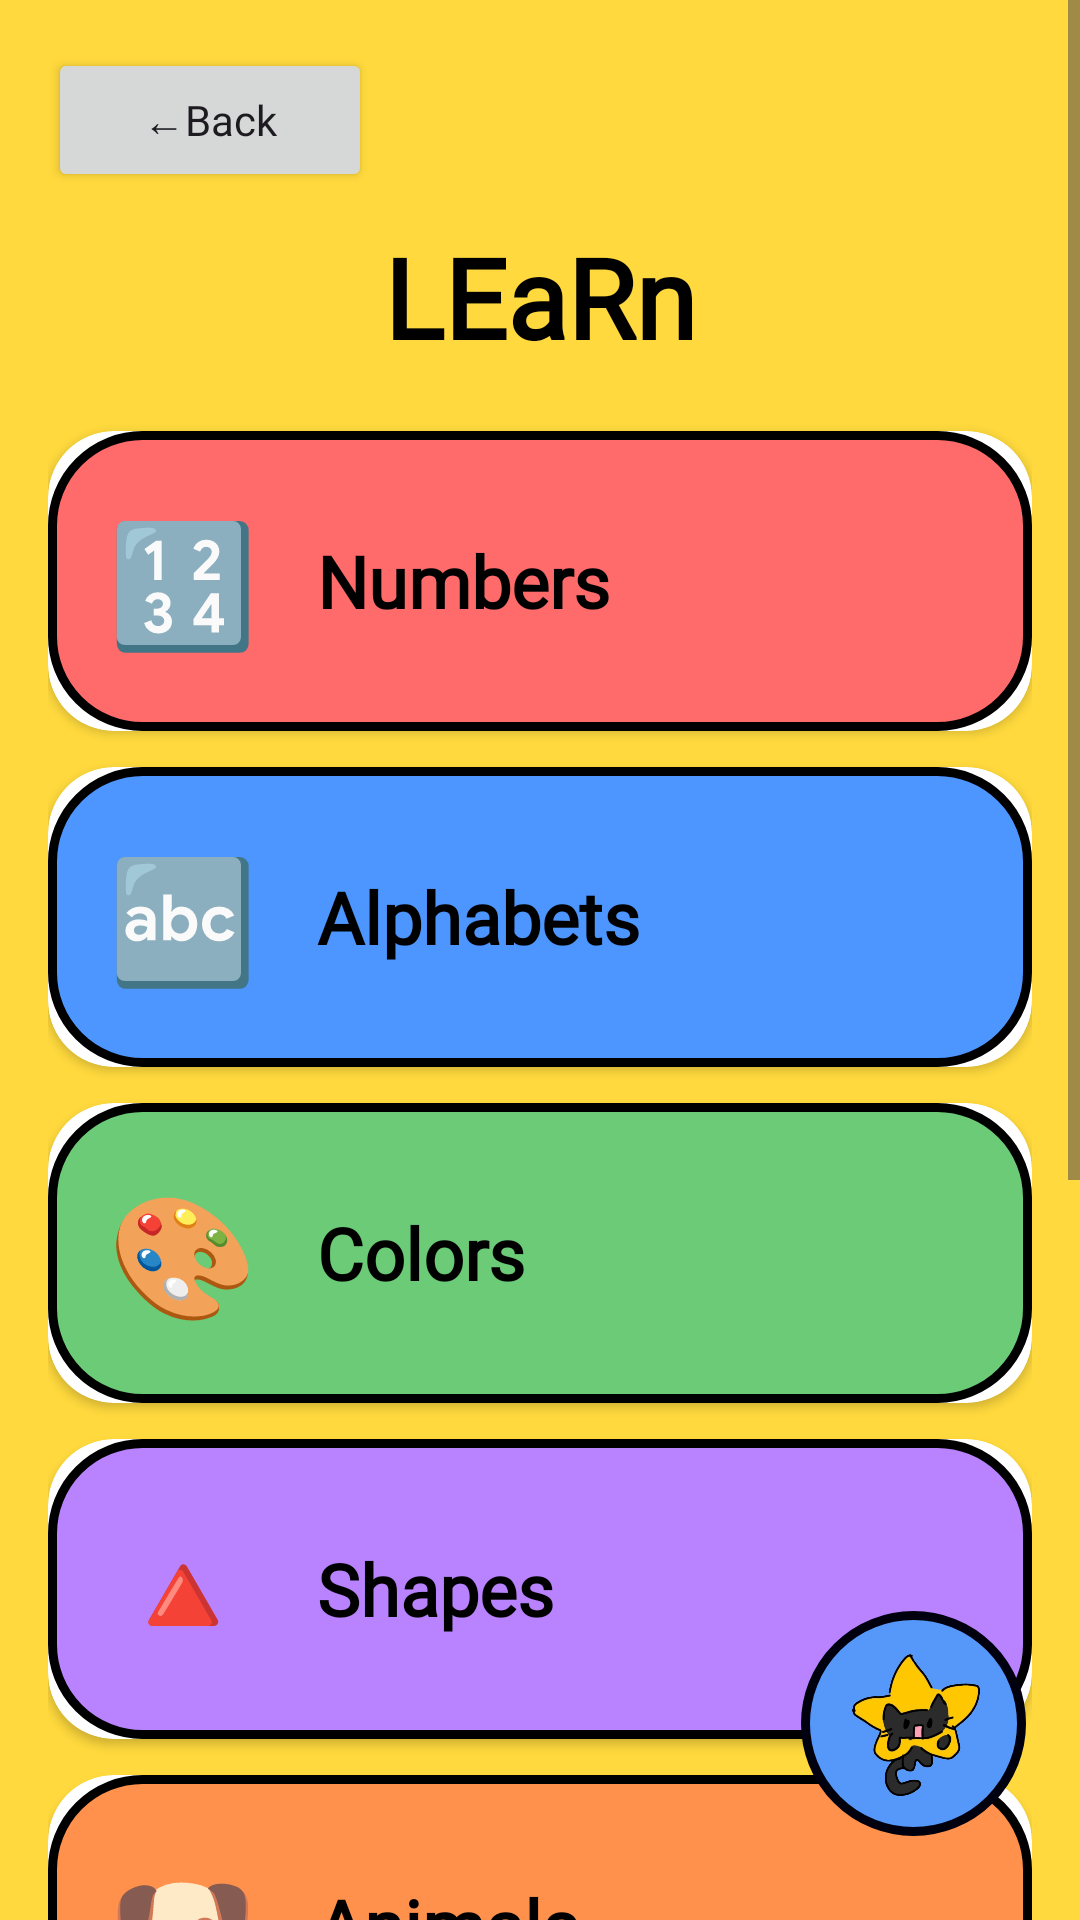

Point at icon controls on the screen. Image size 1080×1920, points as point (x, y).
star: point (913, 1723)
